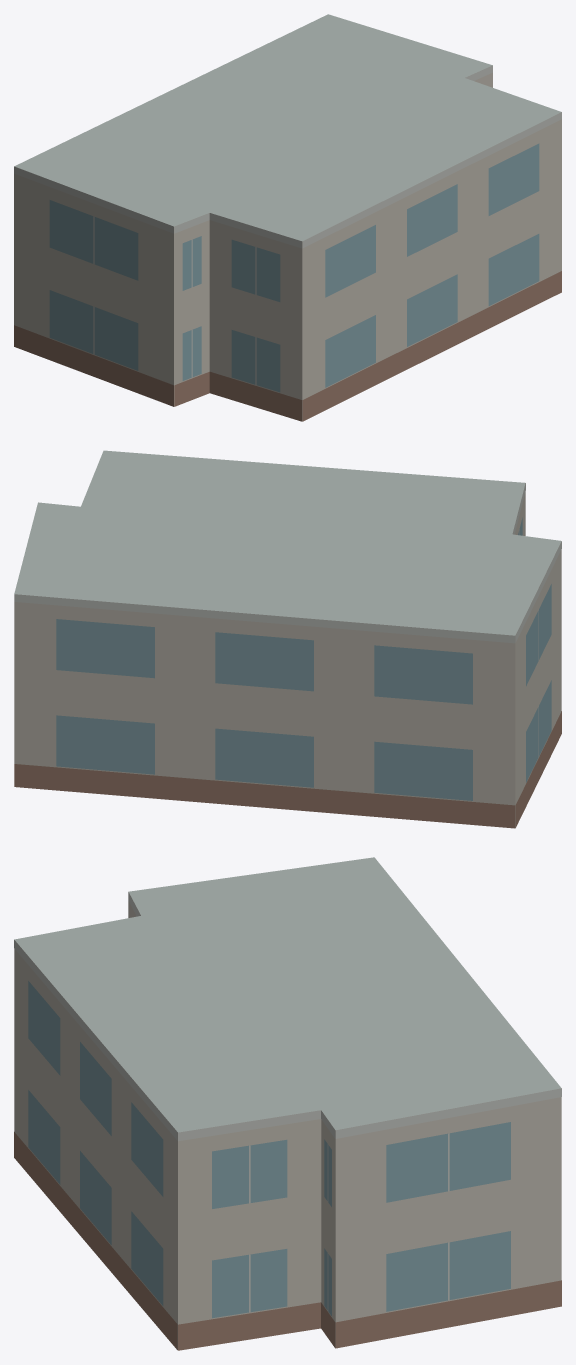
File: survey-upis-32802382.glb
The picture shows the model from 3 angles, top to bottom: view 1: azimuth 30°, elevation 25°; view 2: azimuth 150°, elevation 25°; view 3: azimuth 270°, elevation 25°; orthographic projection. The views are drawn at different scales.
Parts seen in each view (by area): view 1: survey-upis-32802382.tmp; view 2: survey-upis-32802382.tmp; view 3: survey-upis-32802382.tmp.
Boxes of the visible parts, <box> form: survey-upis-32802382.tmp: <box>14,14,561,421</box>; survey-upis-32802382.tmp: <box>14,450,561,828</box>; survey-upis-32802382.tmp: <box>14,857,561,1350</box>.
Bounding box in the file's own units: 16.53 × 6.1 × 13.89.
